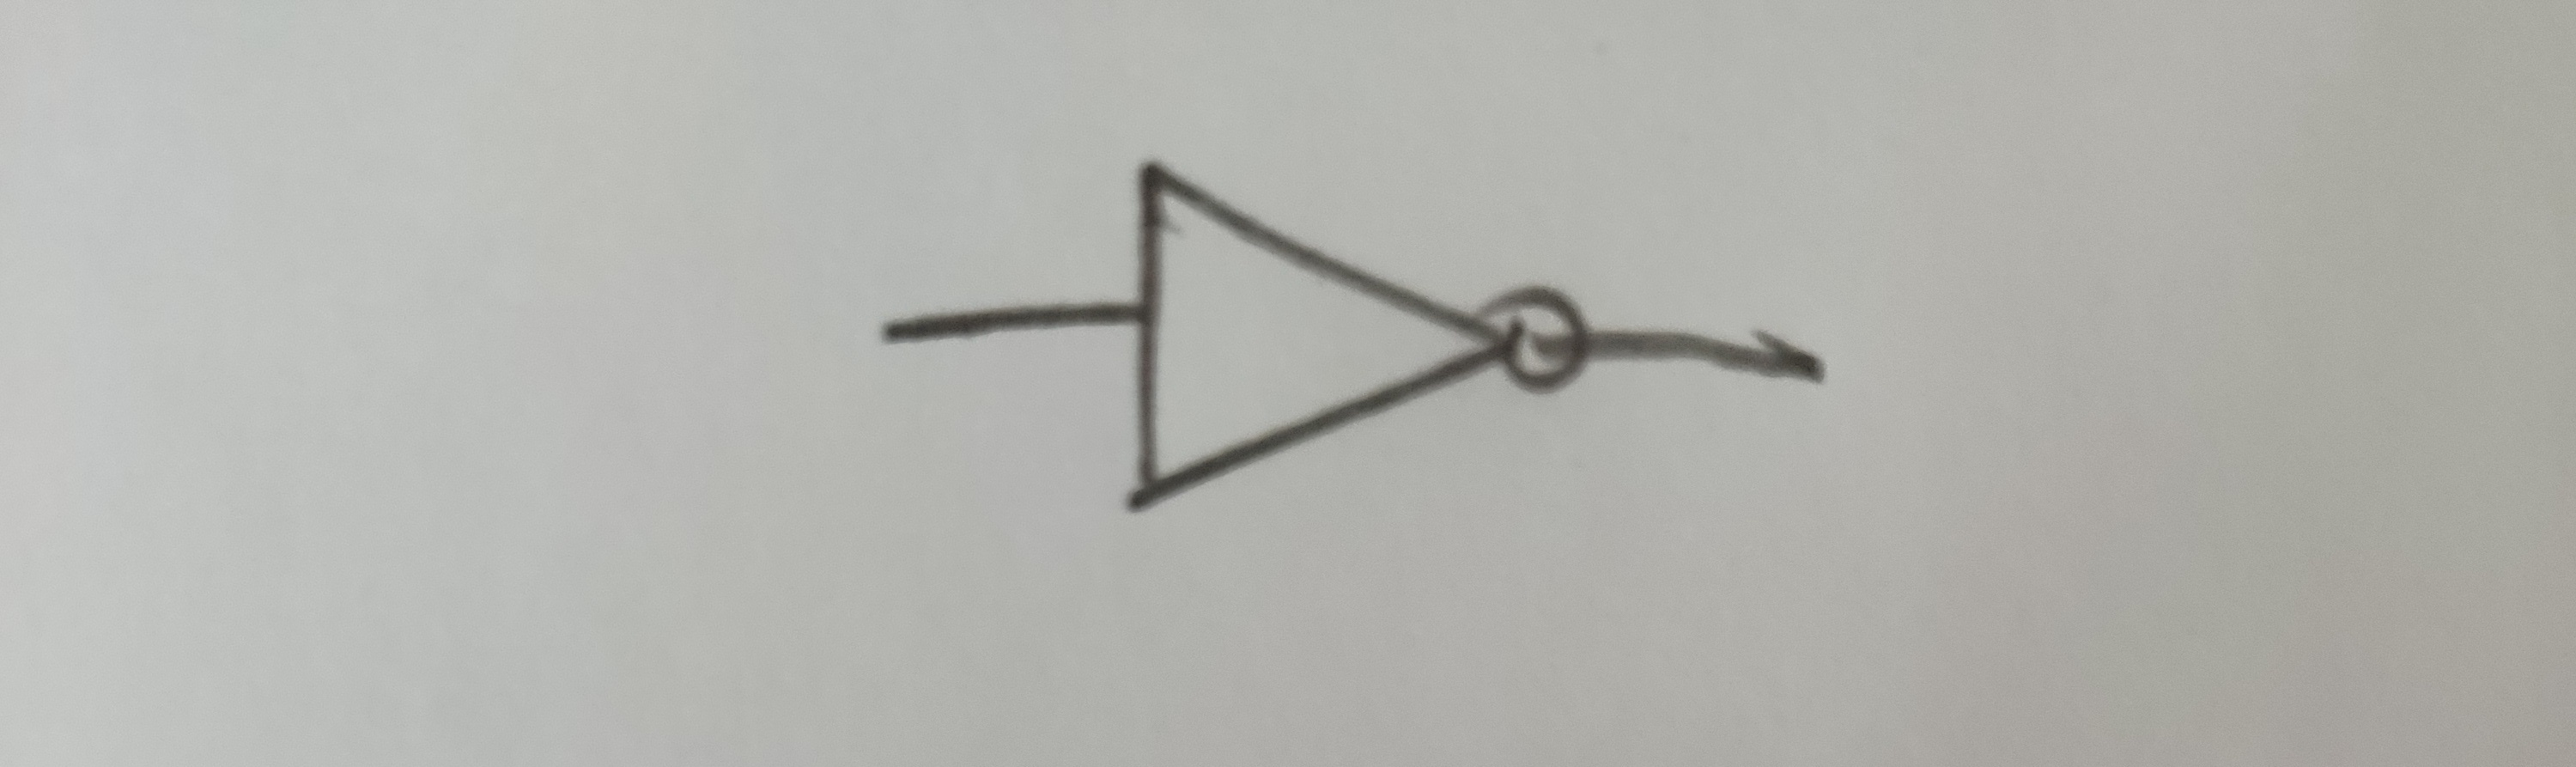not: (1078, 87, 1625, 549)
